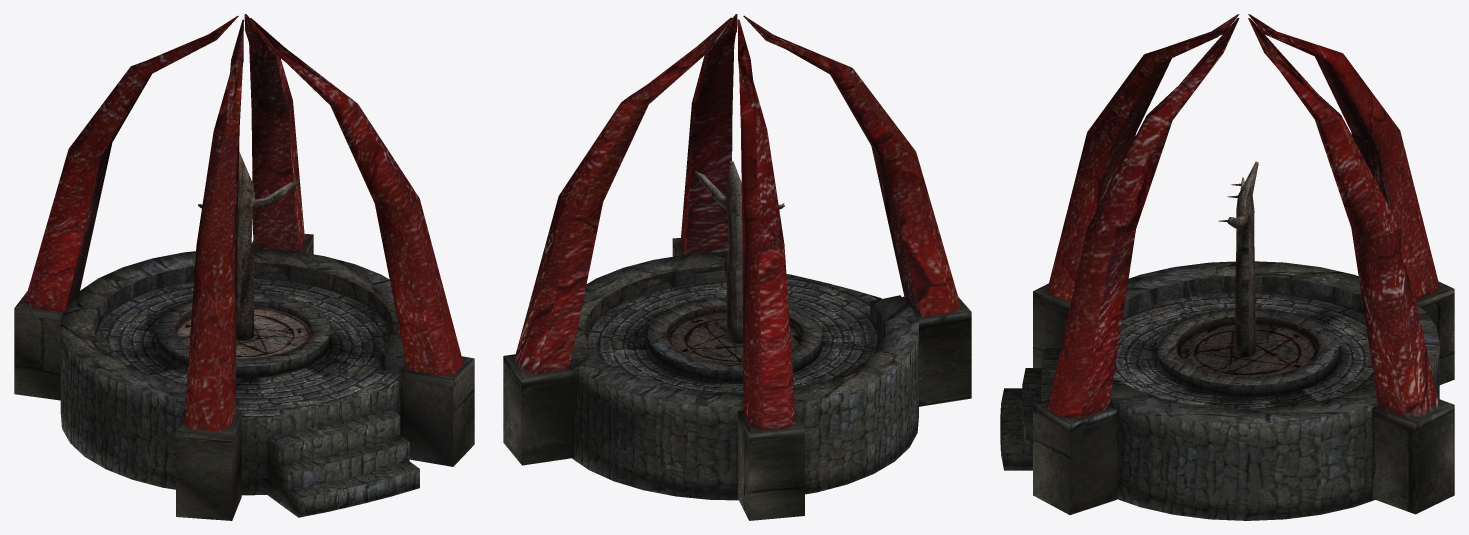
File: altar.glb
3 views of the same model, side by side, from view 1: azimuth 30°, elevation 25°; view 2: azimuth 150°, elevation 25°; view 3: azimuth 270°, elevation 25° (orthographic). The views are drawn at different scales.
Parts seen in each view (by area): view 1: altar; view 2: altar; view 3: altar.
Part boxes in pixels (x1=…): altar: x1=14, y1=14, x2=474, y2=520; altar: x1=503, y1=14, x2=971, y2=520; altar: x1=1000, y1=14, x2=1454, y2=520.
Bounding box in the file's own units: 2 × 2.43 × 2.36.
Materials: 1 (1 with a texture image).
